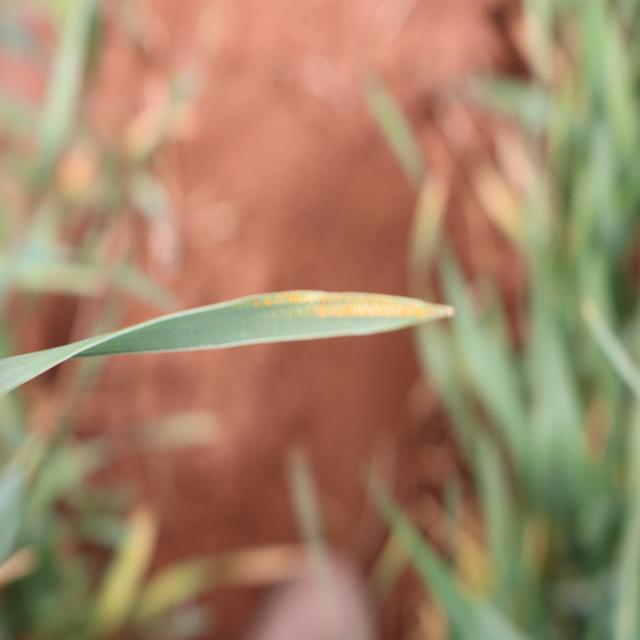Stripe Rust: (249, 293, 437, 319)
